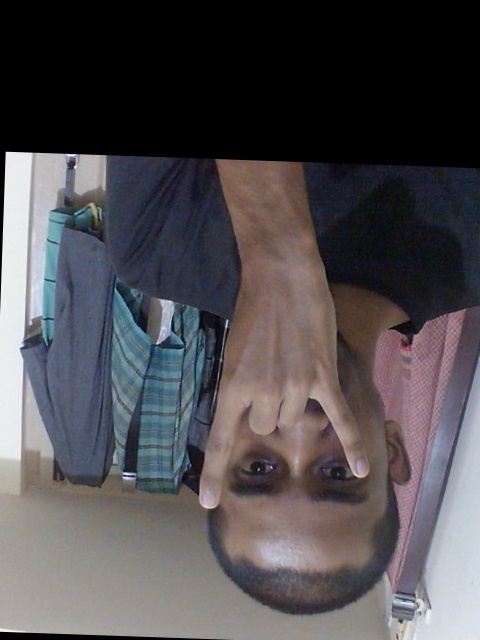hand: (190, 246, 382, 513)
